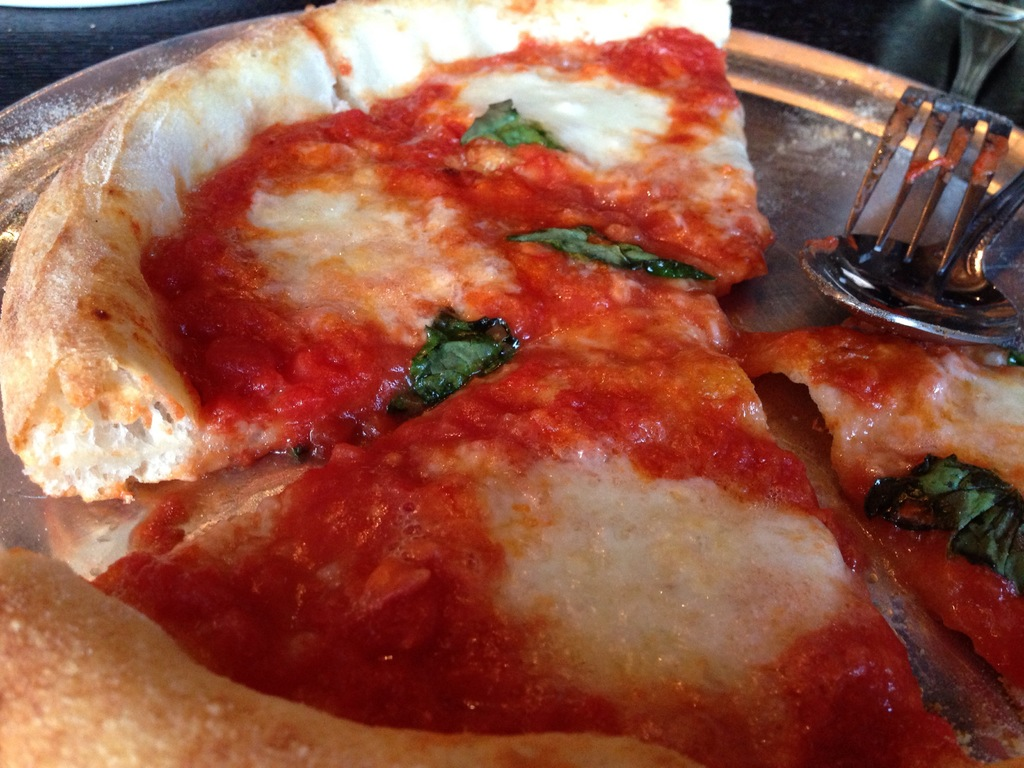Pizza: (0, 290, 964, 767), (739, 324, 1023, 707)
